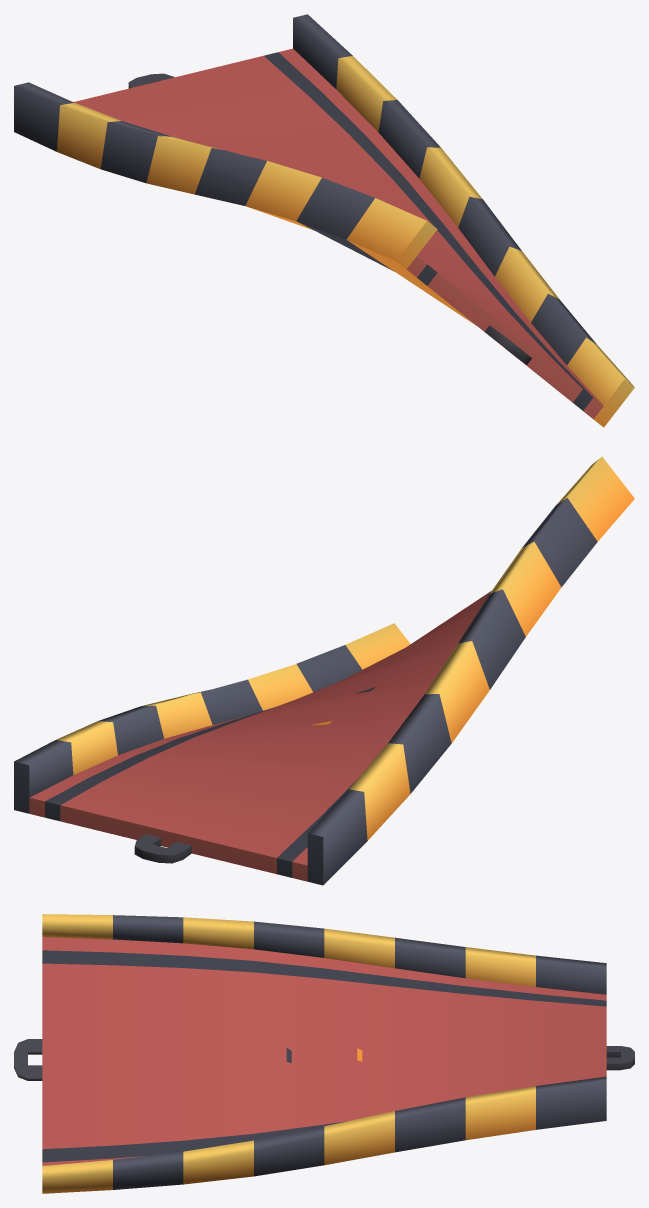
The model's file is track-road-wide-straight-skew-left.fbx.
3 renders of one model, top to bottom at view 1: azimuth 30°, elevation 25°; view 2: azimuth 150°, elevation 25°; view 3: azimuth 270°, elevation 25°, orthographic. The views are drawn at different scales.
Visible parts, largest first — view 1: track-road-wide-straight-skew-left; view 2: track-road-wide-straight-skew-left; view 3: track-road-wide-straight-skew-left.
Boxes of the visible parts, <box> form: track-road-wide-straight-skew-left: <box>14,14,634,427</box>; track-road-wide-straight-skew-left: <box>14,456,634,885</box>; track-road-wide-straight-skew-left: <box>14,914,634,1193</box>.
Size of the model in its own units: 204 by 163 by 440.
